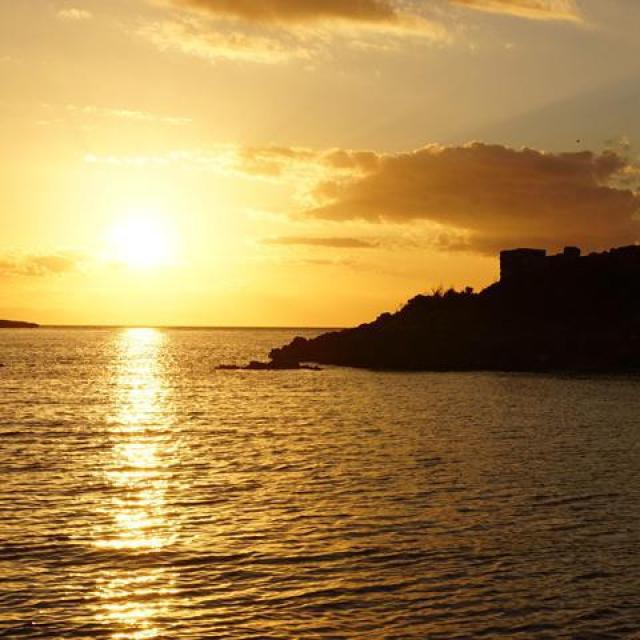other: (72, 186, 202, 294), (111, 316, 181, 478)
